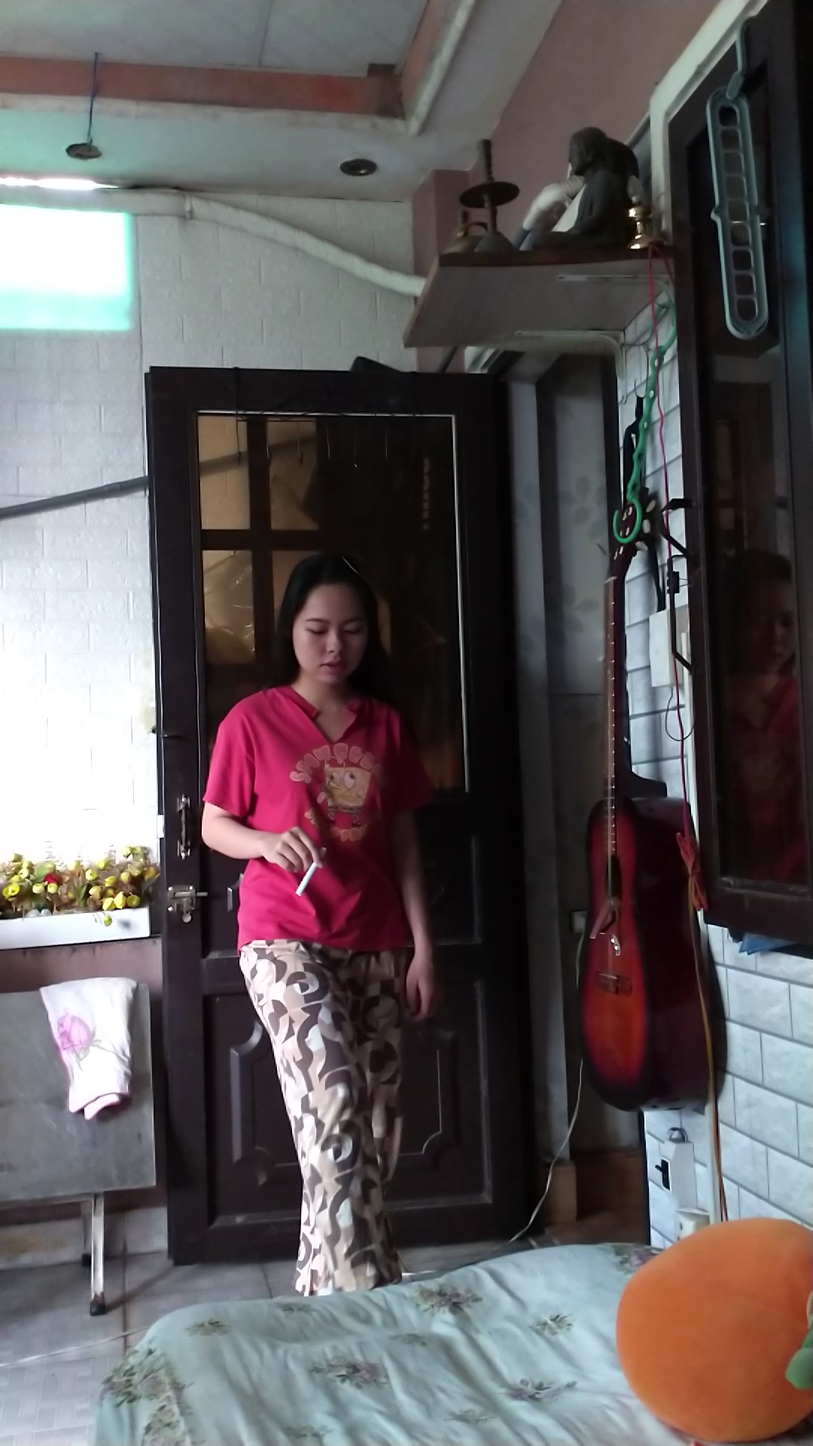cigarette: (293, 862, 319, 902)
person: (199, 532, 446, 1283)
